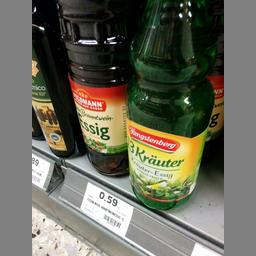vinegar: (127, 0, 214, 210), (57, 0, 130, 177), (30, 6, 82, 158)
